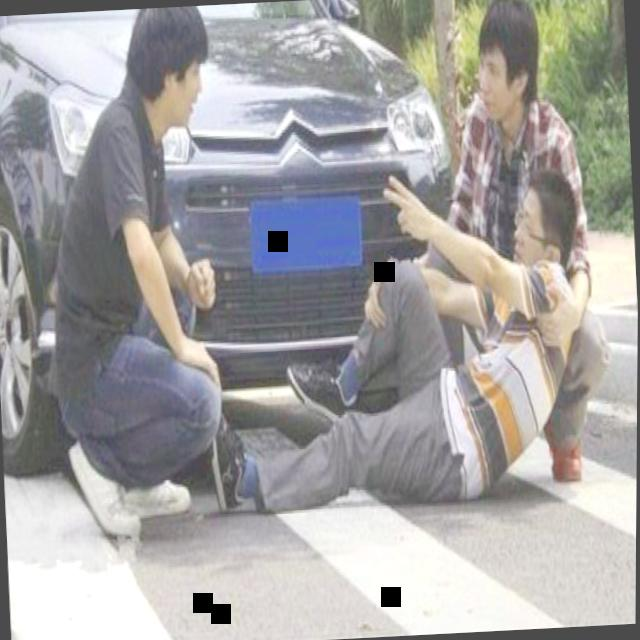Fall-Detected: (199, 147, 608, 528)
